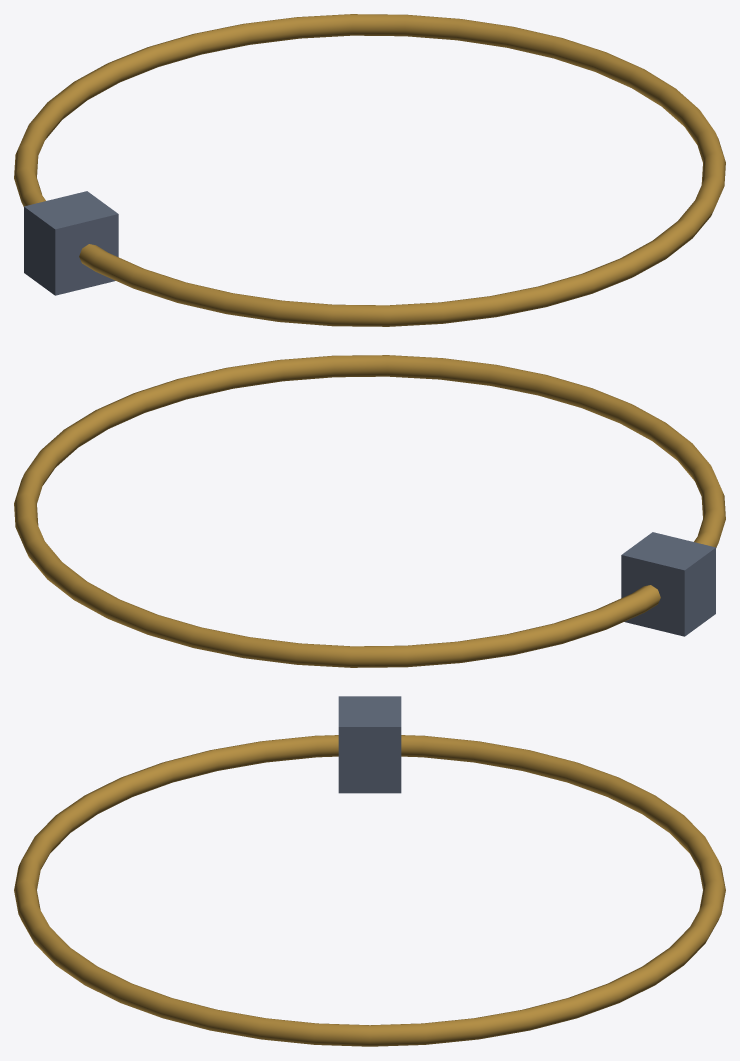
Rendered from tower_arc_rate_s2.glb.
3 views of the same model, one above another, from view 1: azimuth 30°, elevation 25°; view 2: azimuth 150°, elevation 25°; view 3: azimuth 270°, elevation 25° (orthographic).
Visible parts, largest first — view 1: arc_coolant_loop, arc_coolant_pump; view 2: arc_coolant_loop, arc_coolant_pump; view 3: arc_coolant_loop, arc_coolant_pump.
Boxes of the visible parts, x1,y1,x2,y2 form: arc_coolant_loop: (14, 14, 725, 326); arc_coolant_pump: (24, 191, 118, 295); arc_coolant_loop: (14, 355, 725, 667); arc_coolant_pump: (621, 532, 715, 636); arc_coolant_loop: (14, 735, 725, 1046); arc_coolant_pump: (338, 696, 401, 793).
Size of the model in its own units: 1.41 by 0.14 by 1.36.
